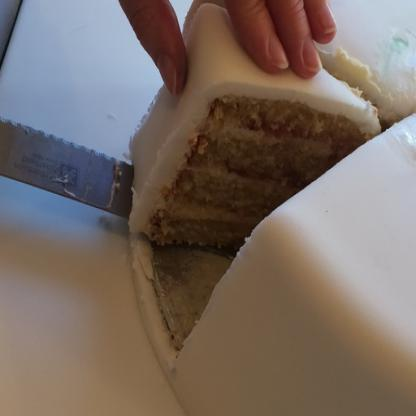knife: (0, 62, 133, 220)
